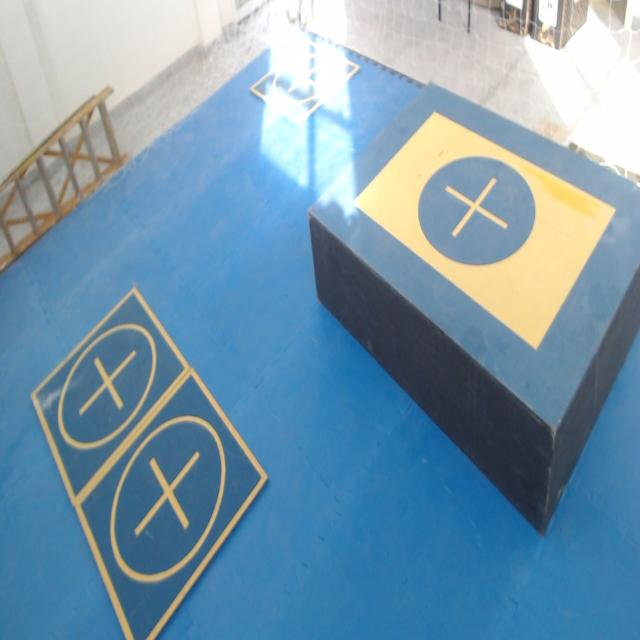base_inicio: (351, 109, 617, 350)
base_pouso: (73, 367, 269, 639), (29, 286, 191, 506)
